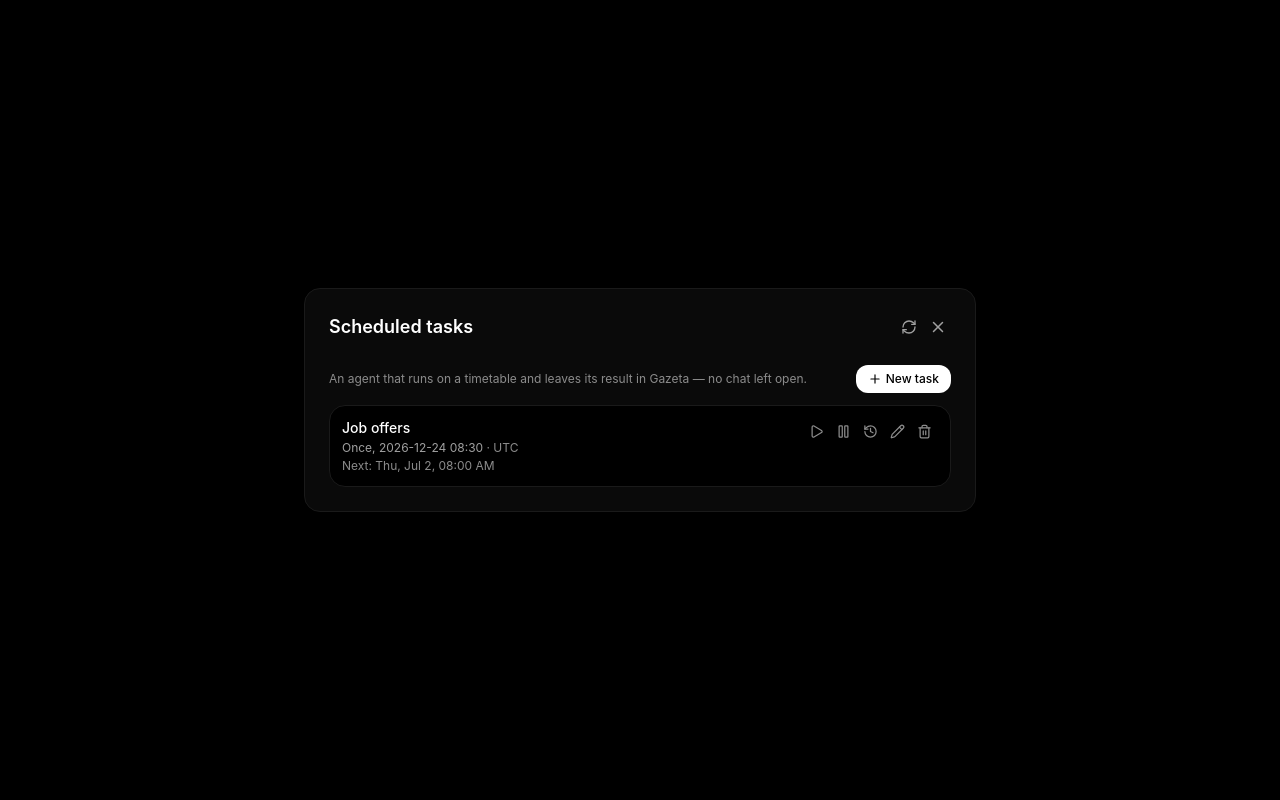
Schedule form › edits a one-time task starting from its date
Click the button named "Edit Job offers": point(898, 432) [884,418,911,445]
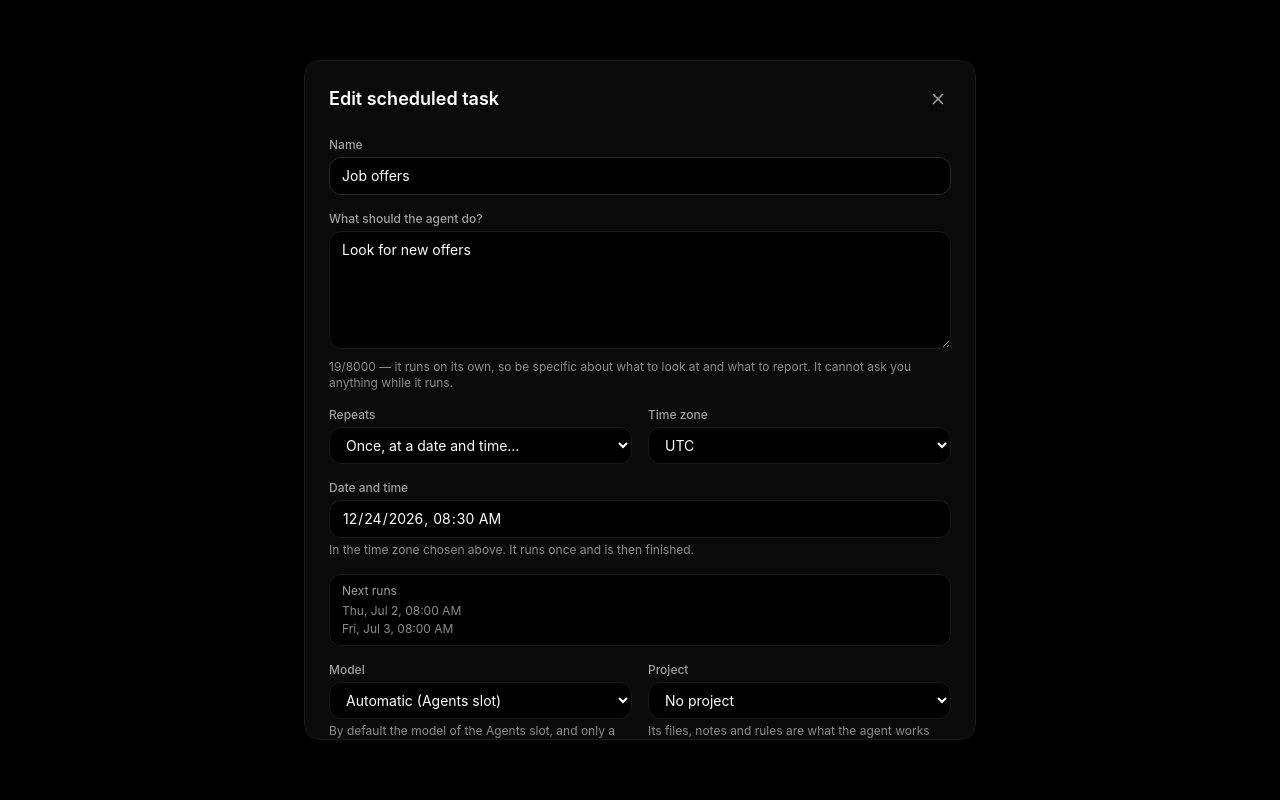
Expected: the dropdown labelled "Repeats" shows "Once, at a date and time…", [329,427,632,464]
Expected: the field labelled "Date and time" holds "2026-12-24T08:30", [329,500,951,538]
